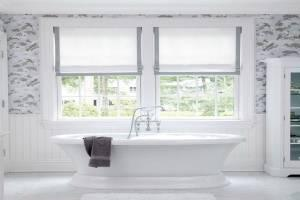window: (40, 17, 252, 122)
